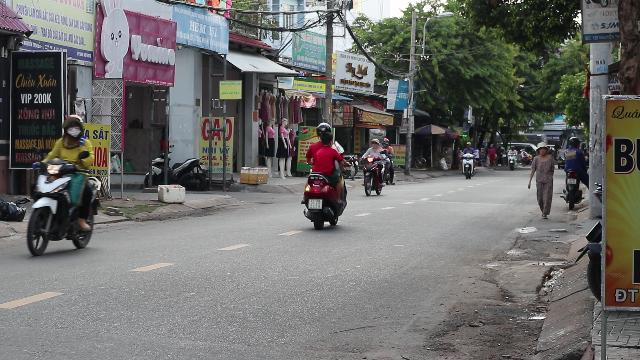helmet: (61, 114, 84, 140), (316, 122, 332, 132)
licenseplate: (308, 199, 322, 209)
motorcyclist: (23, 114, 102, 256), (298, 121, 348, 228)
nohelmet: (318, 131, 334, 146)
